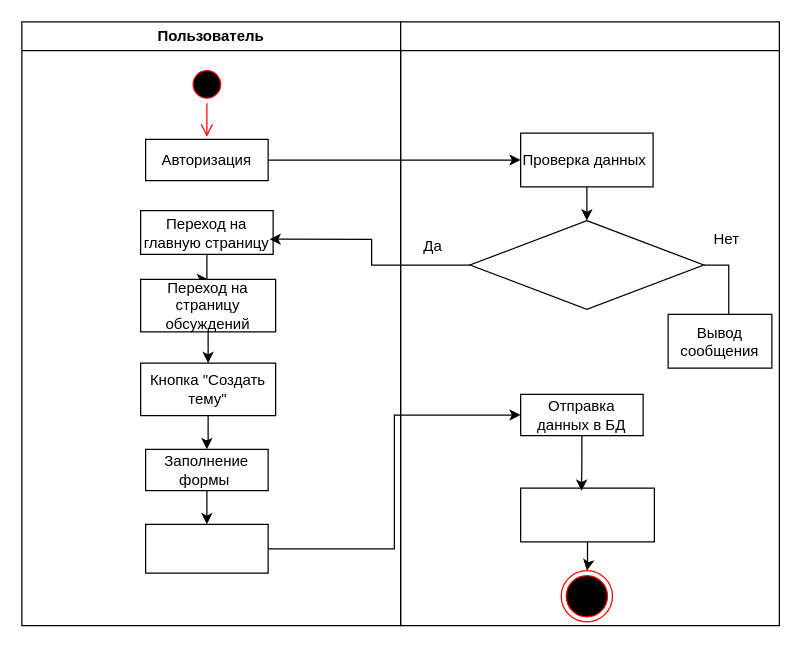
The diagram is 801 pixels wide and 648 high, and some of its shapes have lost their labels. Each missing label, with the box of its shape:
Пользователь зарегестрирован и данные верны: (469, 219, 704, 309)
Публикация персонажа и сборки: (144, 523, 268, 573)
Система: (399, 21, 779, 626)
Сообщение о статусе создания: (519, 487, 654, 542)
